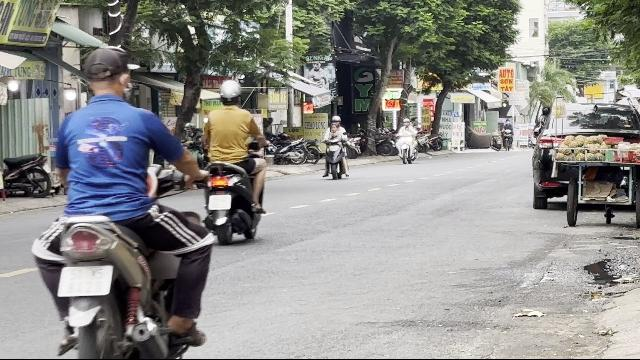helmet: (218, 78, 242, 105)
licenseplate: (58, 266, 112, 296), (209, 195, 231, 209)
motorcyclist: (28, 46, 220, 356), (197, 78, 269, 244)
nohelmet: (79, 48, 131, 100)
